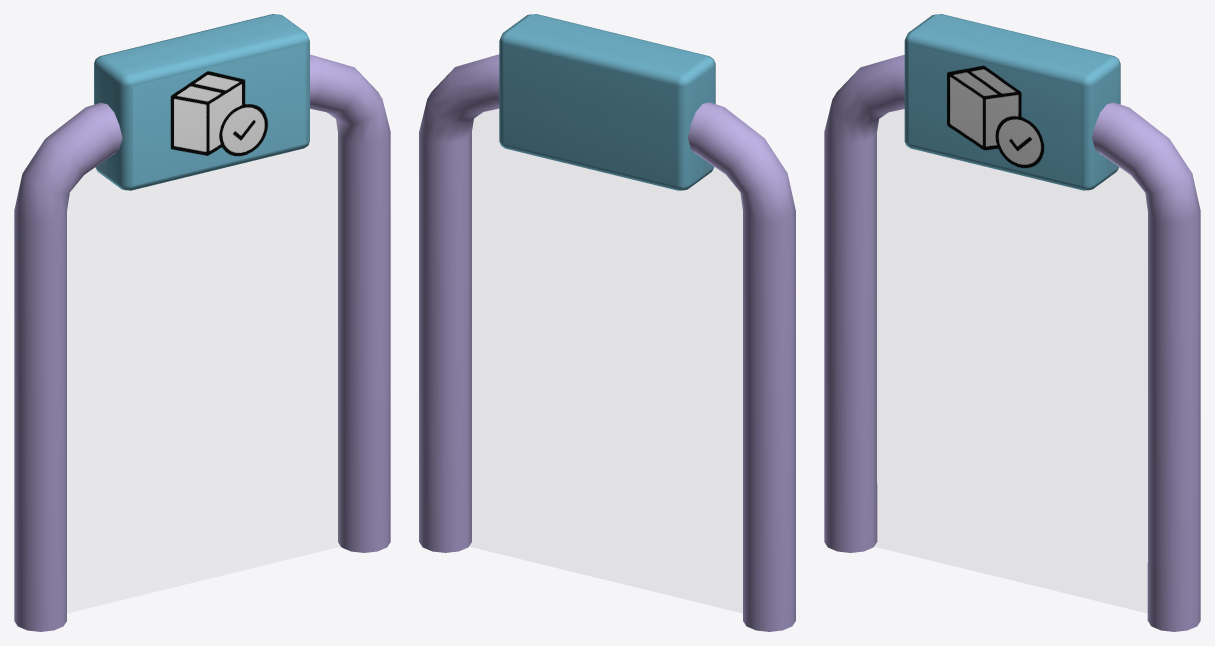
The model's file is Close_Door (1).fbx.
3 views of the same model, side by side, from view 1: azimuth 30°, elevation 25°; view 2: azimuth 150°, elevation 25°; view 3: azimuth 330°, elevation 25° (orthographic).
Parts seen in each view (by area): view 1: Close_Door; view 2: Close_Door; view 3: Close_Door.
Part boxes in pixels (box(x1,y1,x2,y2)): Close_Door: box(14, 14, 390, 631); Close_Door: box(419, 14, 795, 631); Close_Door: box(824, 14, 1200, 631).
Size of the model in its own units: 4.93 by 6.85 by 0.7928.
